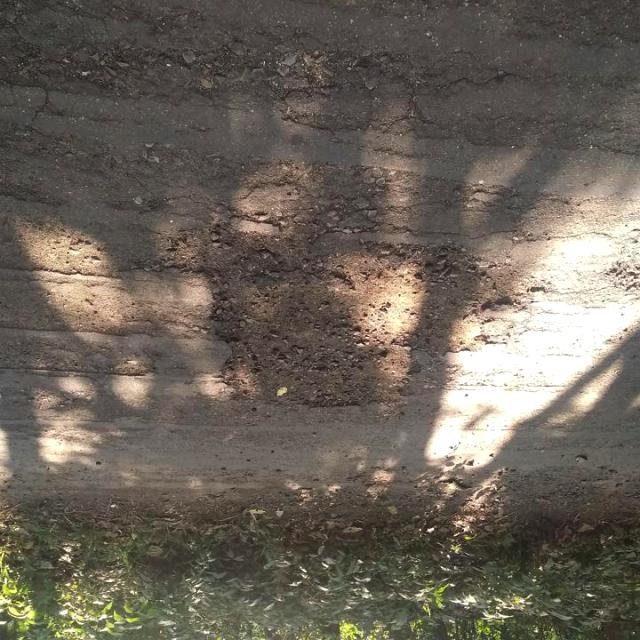pothole: (293, 213, 543, 353), (165, 190, 319, 339), (207, 343, 447, 423)
